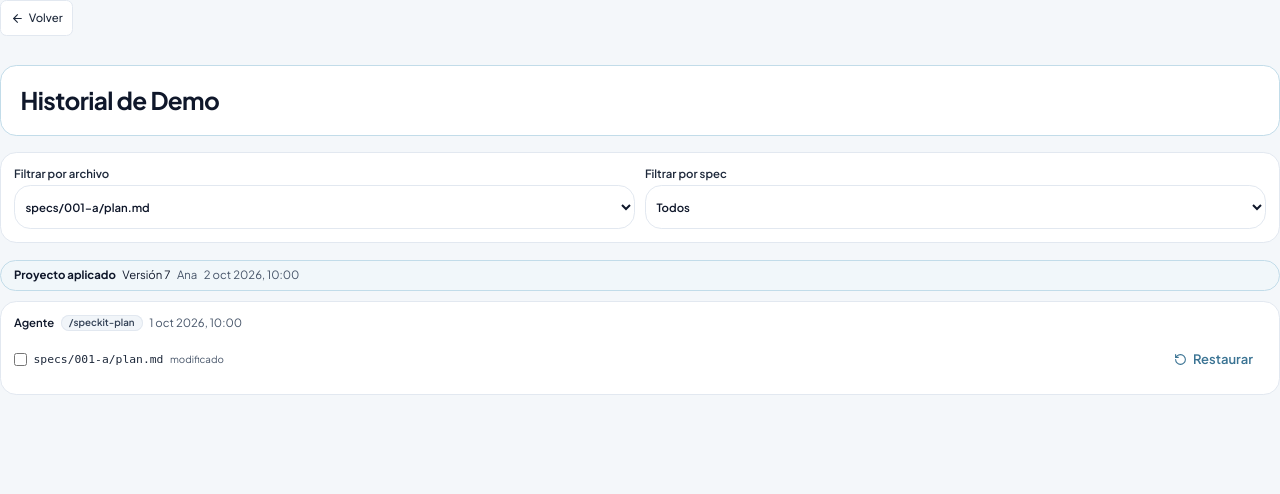
Test: project history page › lists groups and events, filters by file and restores inline
The width and height of the screenshot is (1280, 494).
Select "specs/001-a/plan.md" in the dropdown labelled "Filtrar por archivo" at (325, 207), box [14,185,635,229]
Click the button "Restaurar" at (1213, 359), box [1160,337,1266,381]
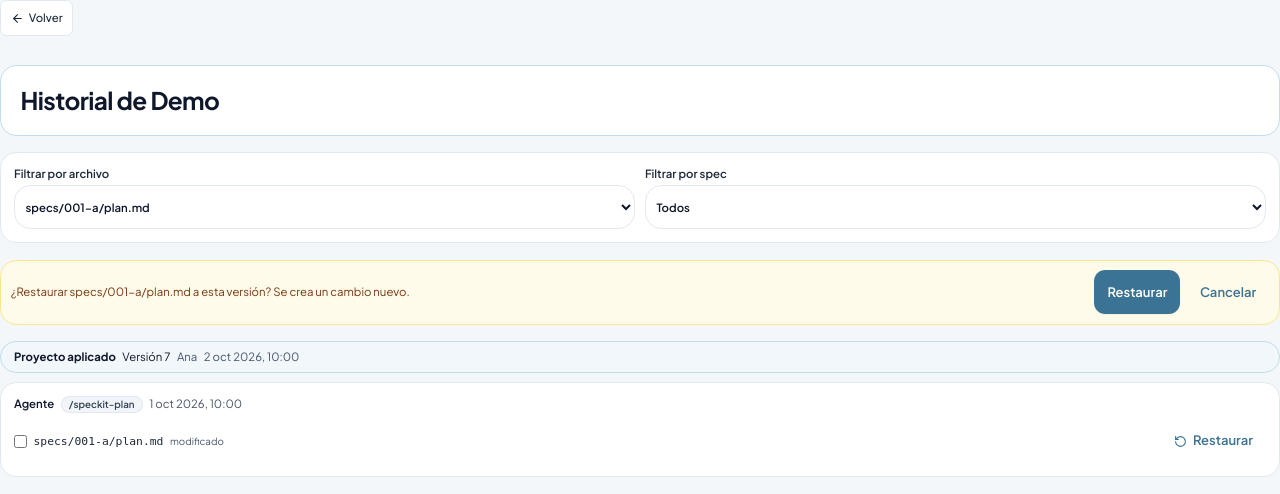
Click the 1st button "Restaurar" at (1137, 292), box [1094,270,1180,314]
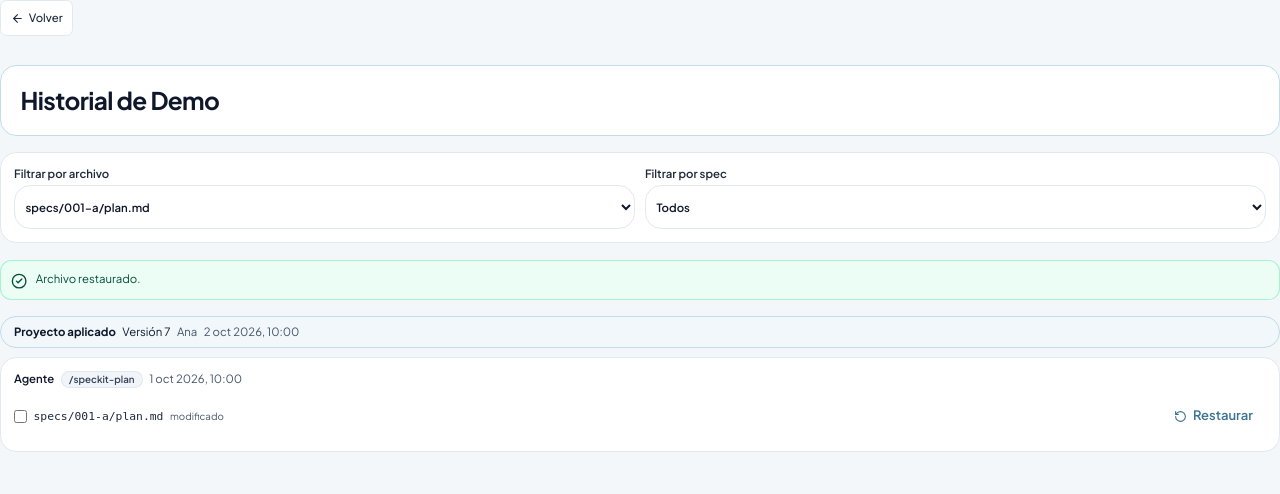
Check: the text "Archivo restaurado." is shown, box [36,271,141,286]
